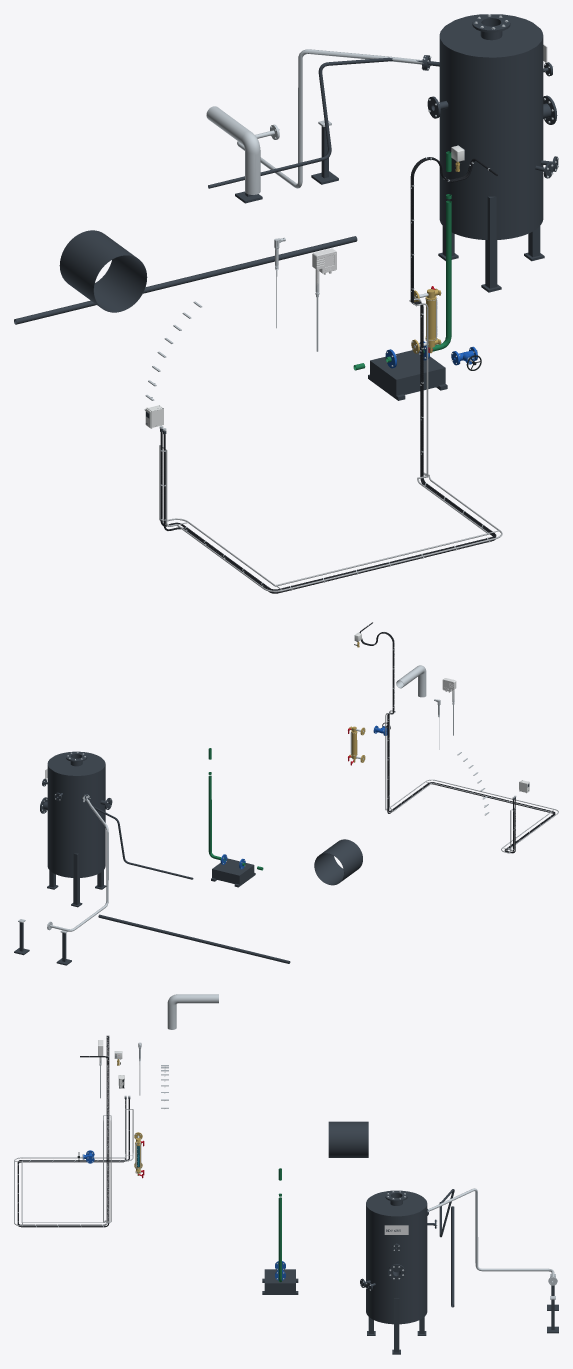
3 views of the same model, one above another, from view 1: azimuth 30°, elevation 25°; view 2: azimuth 150°, elevation 25°; view 3: azimuth 270°, elevation 25° (orthographic). The views are drawn at different scales.
Visible parts, largest first — view 1: separator_bdv60_5 / dark, flue_spacer / dark, cables / zinc, pump_branch_2 / dark, wiring_pressure_switch_2 / black, bottom_discharge / dark, wiring_pressure_switch_1 / black, trap_gap_to_bdv / steel, steam_rise / steel, tds_without_fv / dark, pump_branch_2 / green, sight_glasses_2 / sight_glasses_2_0.npz (+2 smaller); view 2: separator_bdv60_5 / dark, flue_spacer / dark, cables / zinc, wiring_pressure_switch_1 / black, pump_branch_2 / dark, bottom_discharge / dark, wiring_pressure_switch_2 / black, trap_gap_to_bdv / steel, steam_rise / steel, pump_branch_2 / green; view 3: separator_bdv60_5 / dark, flue_spacer / dark, cables / zinc, wiring_pressure_switch_2 / black, wiring_pressure_switch_1 / black, trap_gap_to_bdv / steel, pump_branch_2 / dark, steam_rise / steel.
Part boxes in pixels (left/top/right/bottom): separator_bdv60_5 / dark: left=424, top=14, right=558, bottom=292; flue_spacer / dark: left=59, top=230, right=147, bottom=312; cables / zinc: left=159, top=298, right=502, bottom=592; pump_branch_2 / dark: left=368, top=350, right=447, bottom=400; wiring_pressure_switch_2 / black: left=160, top=158, right=496, bottom=590; bottom_discharge / dark: left=14, top=236, right=357, bottom=324; wiring_pressure_switch_1 / black: left=163, top=157, right=497, bottom=593; trap_gap_to_bdv / steel: left=237, top=49, right=426, bottom=188; steam_rise / steel: left=206, top=106, right=260, bottom=194; tds_without_fv / dark: left=208, top=55, right=426, bottom=188; pump_branch_2 / green: left=353, top=151, right=451, bottom=370; sight_glasses_2 / sight_glasses_2_0.npz: left=411, top=286, right=441, bottom=353; separator_bdv60_5 / dark: left=40, top=751, right=112, bottom=907; flue_spacer / dark: left=314, top=839, right=362, bottom=885; cables / zinc: left=385, top=710, right=558, bottom=853; wiring_pressure_switch_1 / black: left=359, top=622, right=555, bottom=853; pump_branch_2 / dark: left=211, top=858, right=255, bottom=887; bottom_discharge / dark: left=98, top=914, right=290, bottom=963; wiring_pressure_switch_2 / black: left=360, top=629, right=555, bottom=853; trap_gap_to_bdv / steel: left=47, top=795, right=108, bottom=931; steam_rise / steel: left=396, top=665, right=426, bottom=697; pump_branch_2 / green: left=208, top=748, right=263, bottom=870; separator_bdv60_5 / dark: left=360, top=1190, right=436, bottom=1354; flue_spacer / dark: left=328, top=1121, right=368, bottom=1157; cables / zinc: left=14, top=1109, right=133, bottom=1226; wiring_pressure_switch_2 / black: left=17, top=1035, right=129, bottom=1225; wiring_pressure_switch_1 / black: left=17, top=1035, right=126, bottom=1227; trap_gap_to_bdv / steel: left=427, top=1188, right=557, bottom=1285; pump_branch_2 / dark: left=262, top=1269, right=298, bottom=1294; steam_rise / steel: left=167, top=994, right=218, bottom=1029.
Size of the model in its own units: 5.42 by 3.06 by 6.8.
